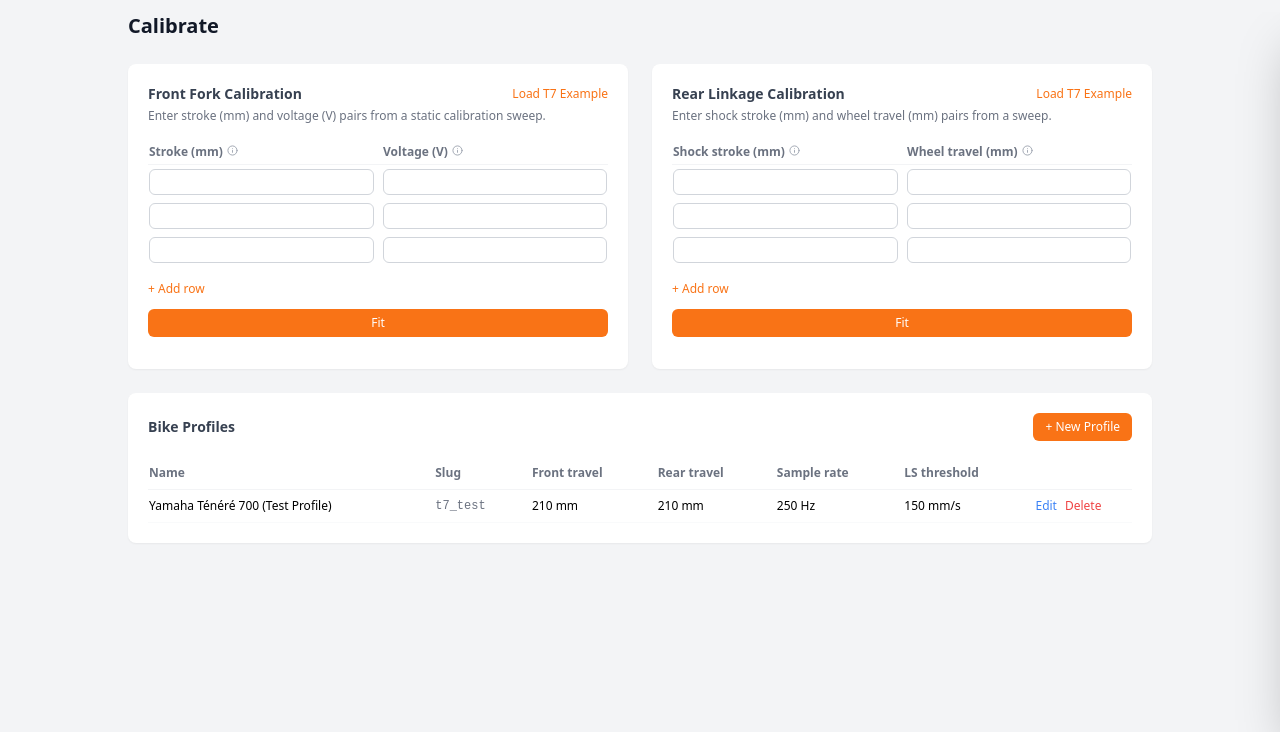
Test: CalibratePage › opens the info sidebar when an info button is clicked
Click the button named "more info about" at x=232, y=150, box [227,145,238,156]
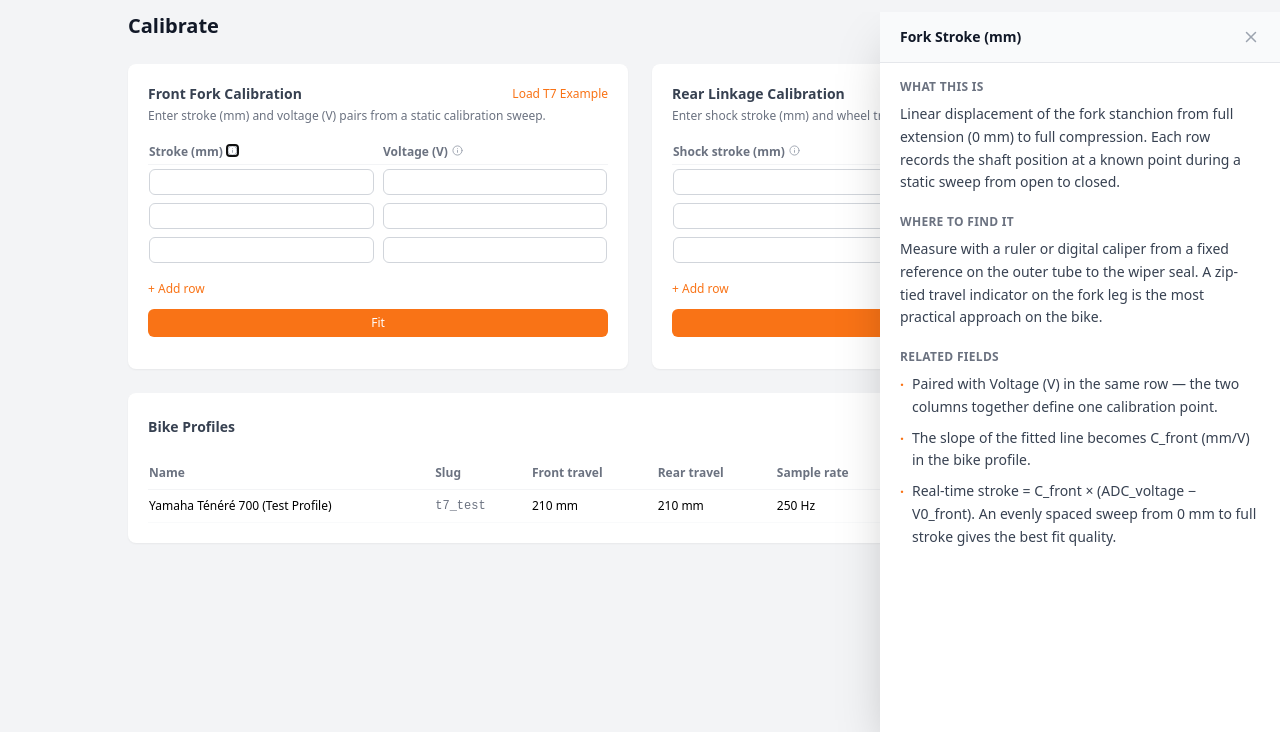
expect the element named "field details" is shown: met, box [880,12,1279,731]
expect the heading "What this is" is shown: met, box [900,78,984,95]
